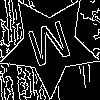M: (25, 20, 77, 76)
